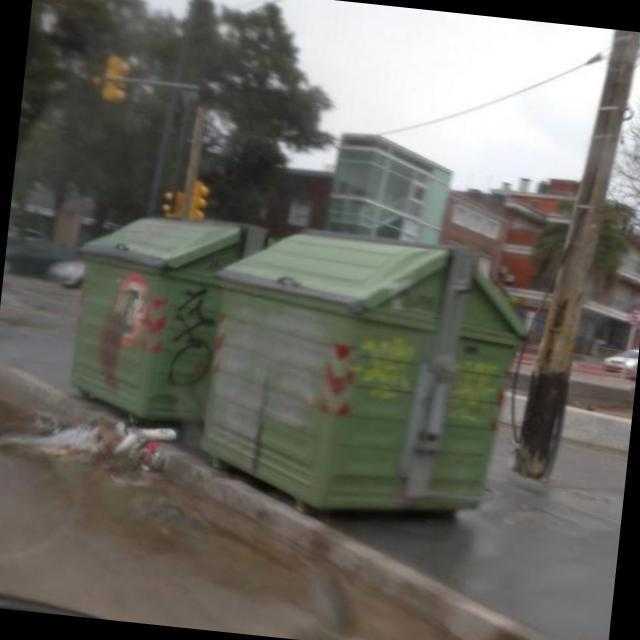garbage: (0, 390, 193, 483)
